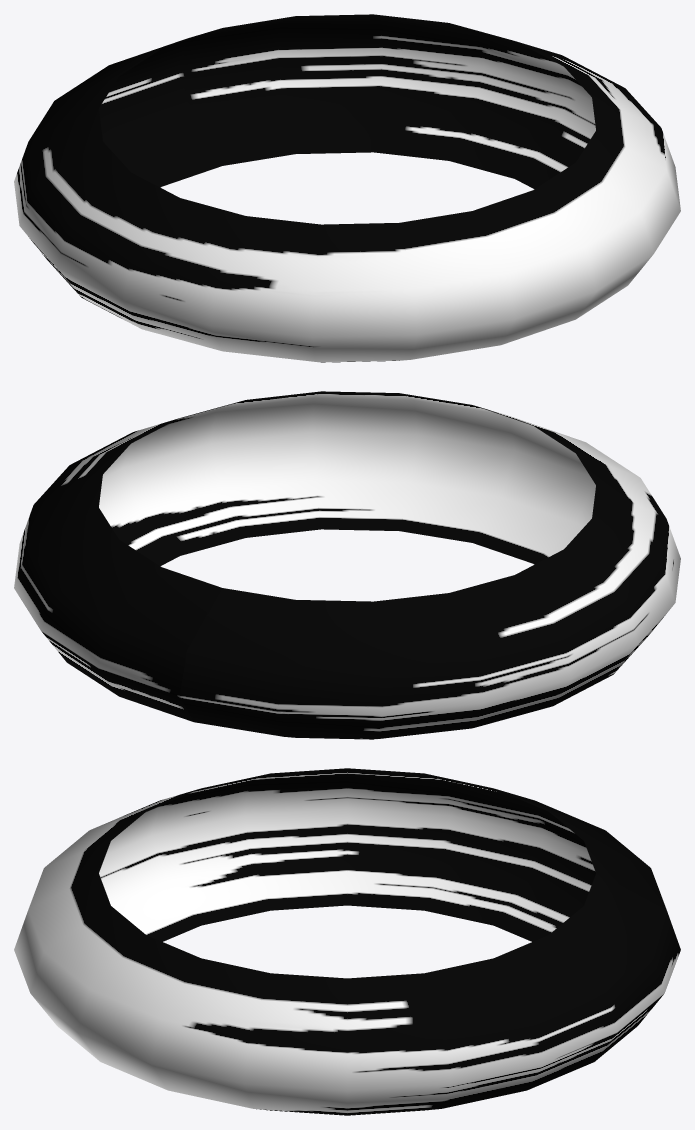
Rendered from VFX_Torus.FBX.
The picture shows the model from 3 angles, top to bottom: view 1: azimuth 30°, elevation 25°; view 2: azimuth 150°, elevation 25°; view 3: azimuth 270°, elevation 25°; orthographic projection.
Visible parts, largest first — view 1: Torus; view 2: Torus; view 3: Torus.
Boxes of the visible parts, left/top/right/bottom form: Torus: left=14, top=14, right=680, bottom=362; Torus: left=14, top=391, right=680, bottom=739; Torus: left=14, top=768, right=680, bottom=1115.
Bounding box in the file's own units: 108 × 24.56 × 108.
